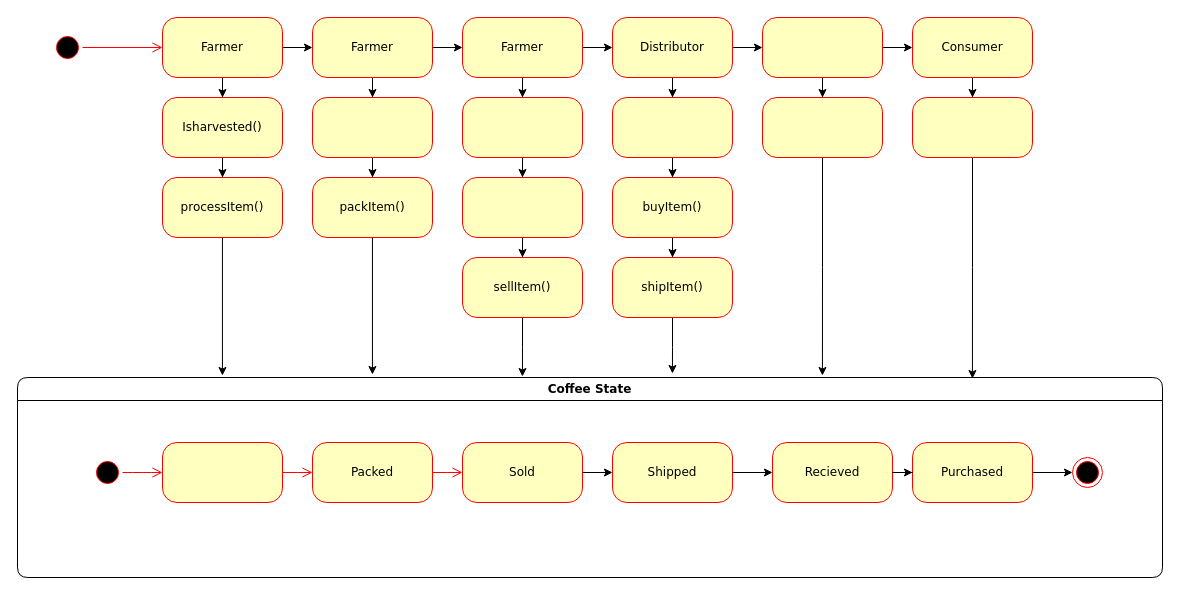
This 1180x595 diagram has some shape labels left out. The centre of each missing label's shape, as x and y in pixels:
"IsForSale()" goes at (522,207).
"IsPacked()" goes at (522,127).
"IsProcessed()" goes at (372,127).
"IsRecieved()" goes at (822,127).
"IsSold()" goes at (672,127).
"Processed" goes at (222,472).
"purchase()" goes at (972,127).
"Retailer" goes at (822,47).
